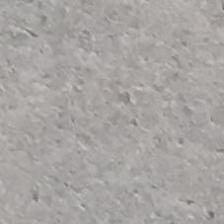Non_Crack: (23, 23, 218, 200)
